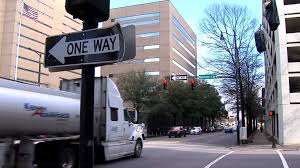oneWay: (41, 21, 124, 65)
